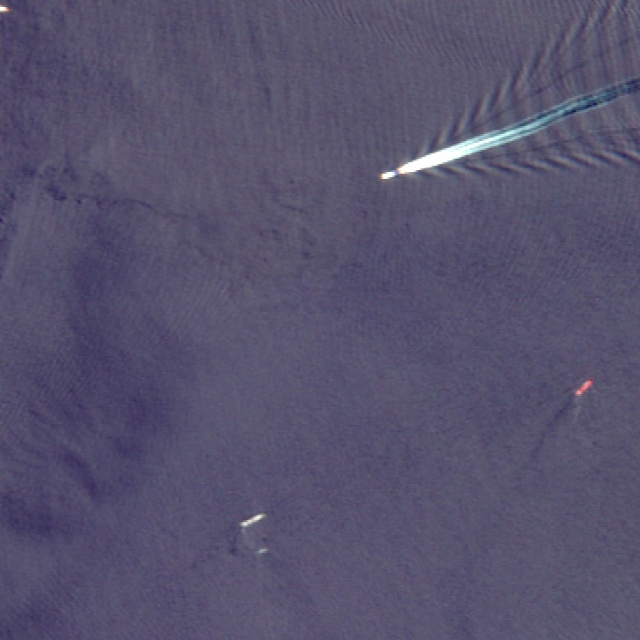wake: (358, 61, 588, 228)
